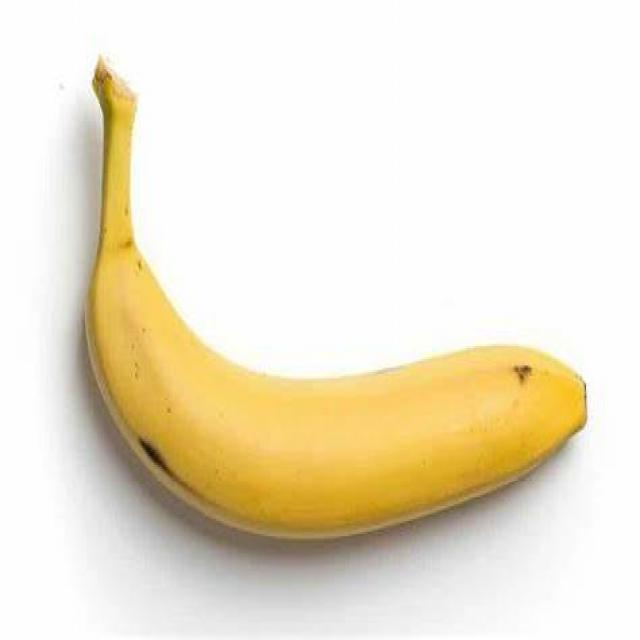Banana: (85, 57, 587, 547)
